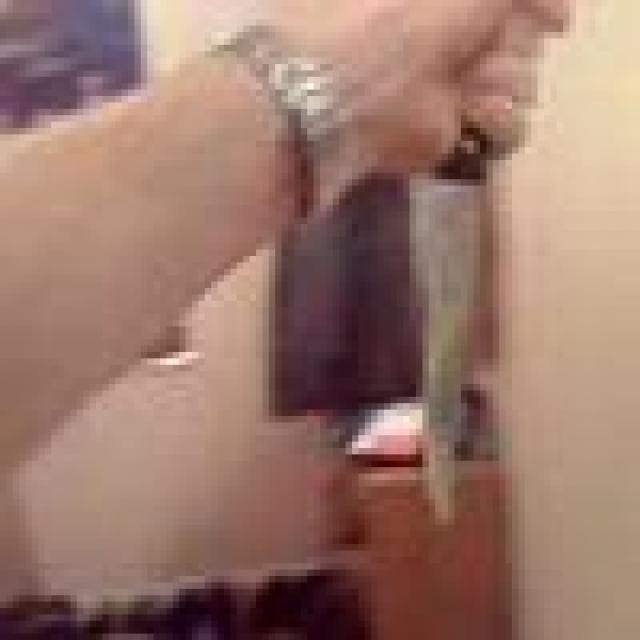knife: (409, 169, 483, 522)
